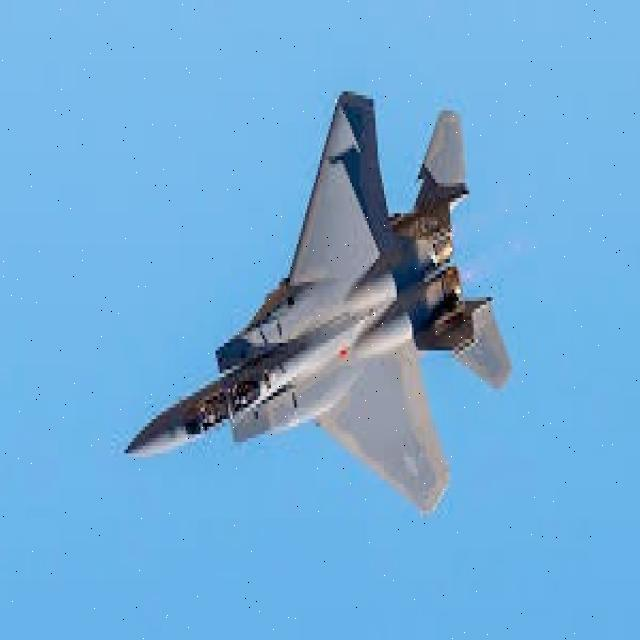F15: (117, 84, 520, 530)
